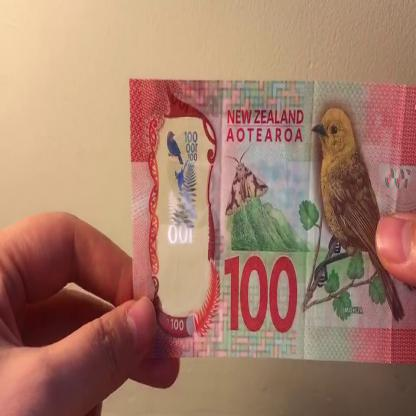100B: (163, 123, 204, 298)
